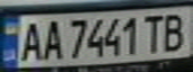1: (118, 12, 142, 55)
4: (84, 15, 109, 58), (103, 15, 124, 57)
7: (63, 16, 87, 60)
A: (18, 18, 45, 62), (39, 17, 66, 61)
B: (157, 10, 190, 53)
T: (139, 11, 169, 54)
